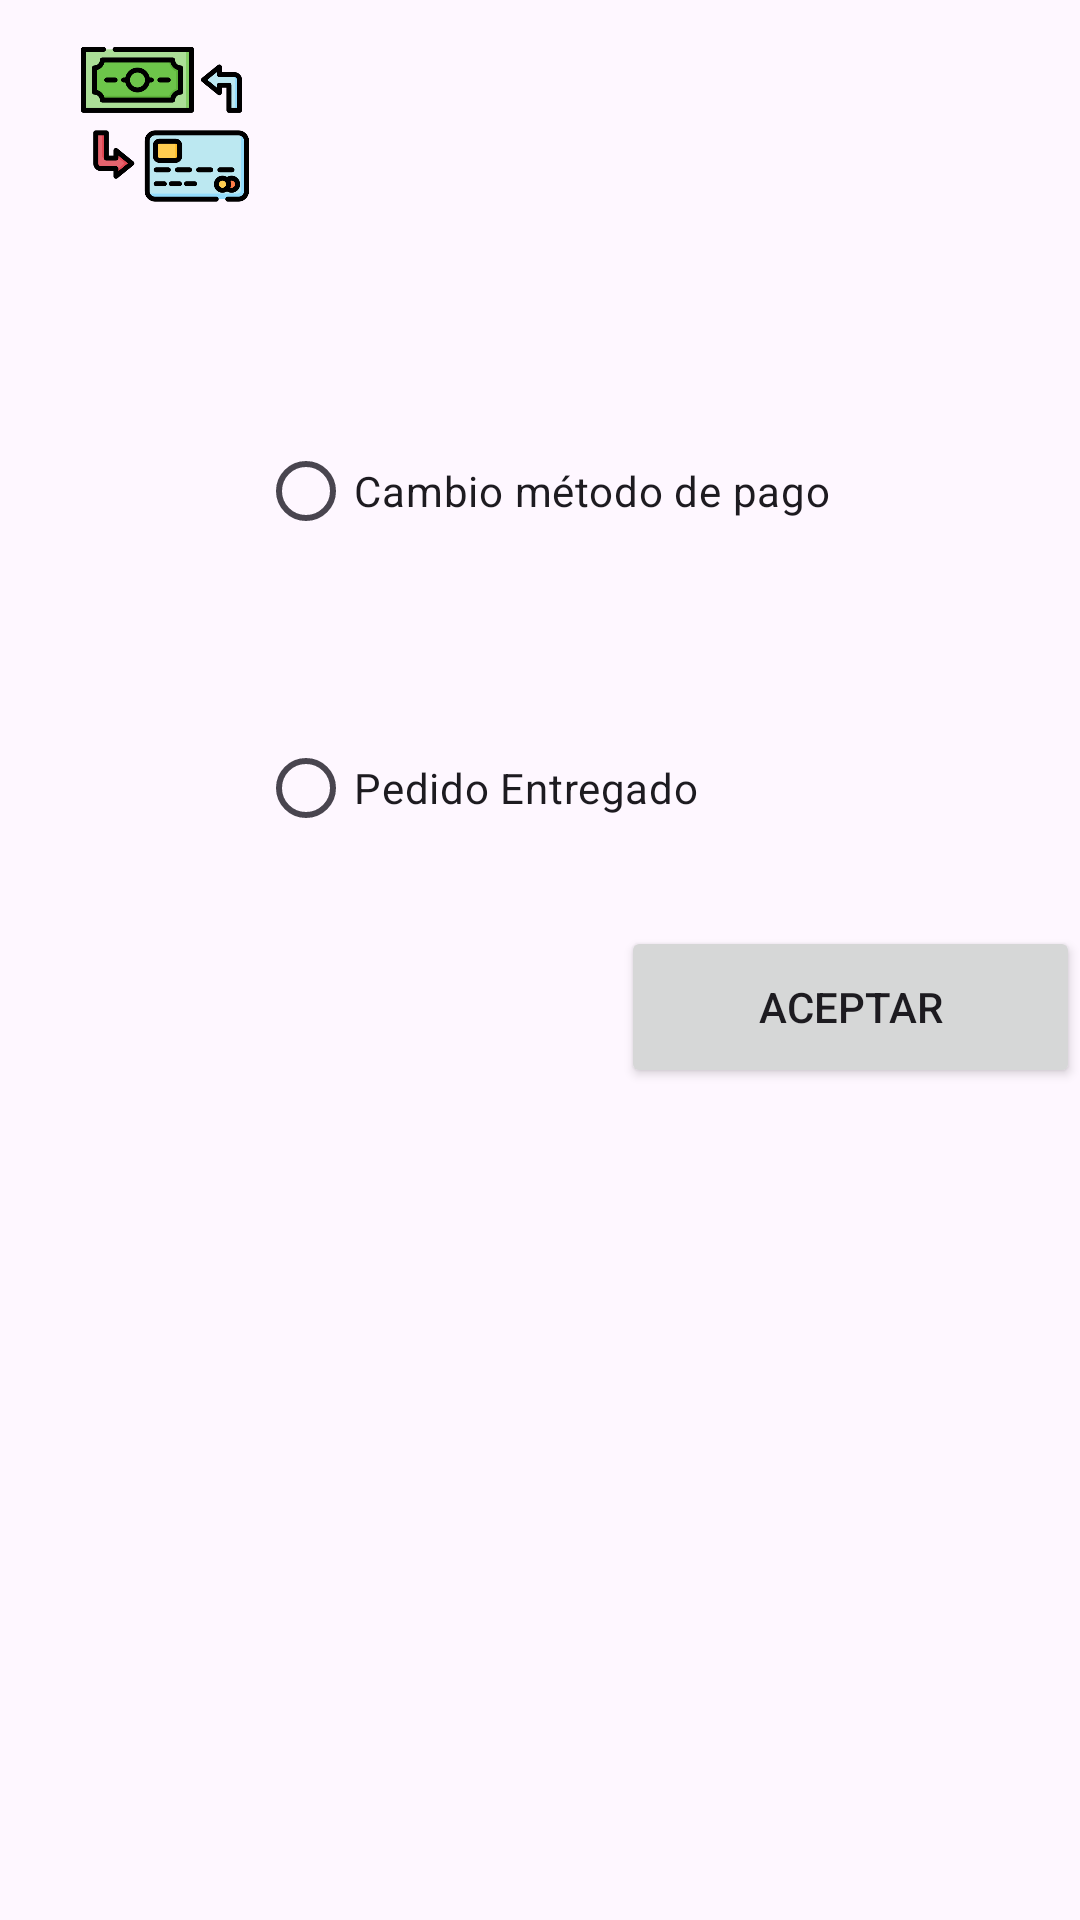

Icon click points for this 1080*1920 phone screenshot, format (x=x, y=y):
payment method: (x=165, y=124)
